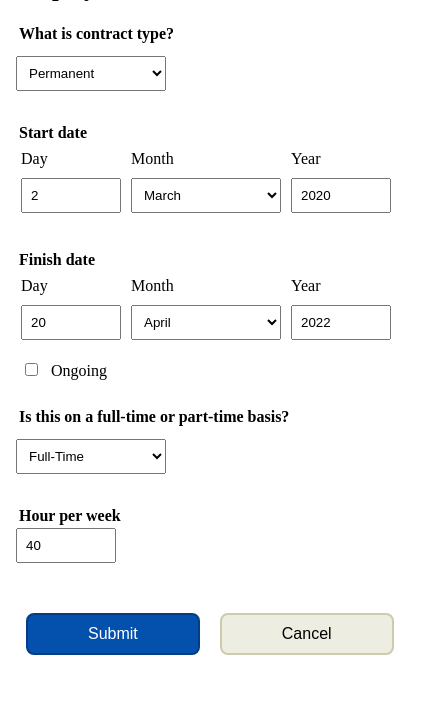
Test: Test create employee form › should show error message when email entered is not valid
(page scrolled)
Click the button with test id "submitBtn" at x=113, y=634, box [26,613,200,655]
(page scrolled)
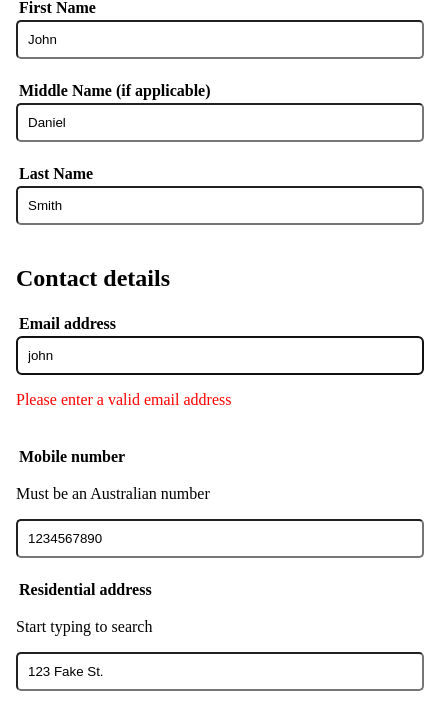
Result: the text "Please enter a valid email address" is shown at [16,391,232,408]
